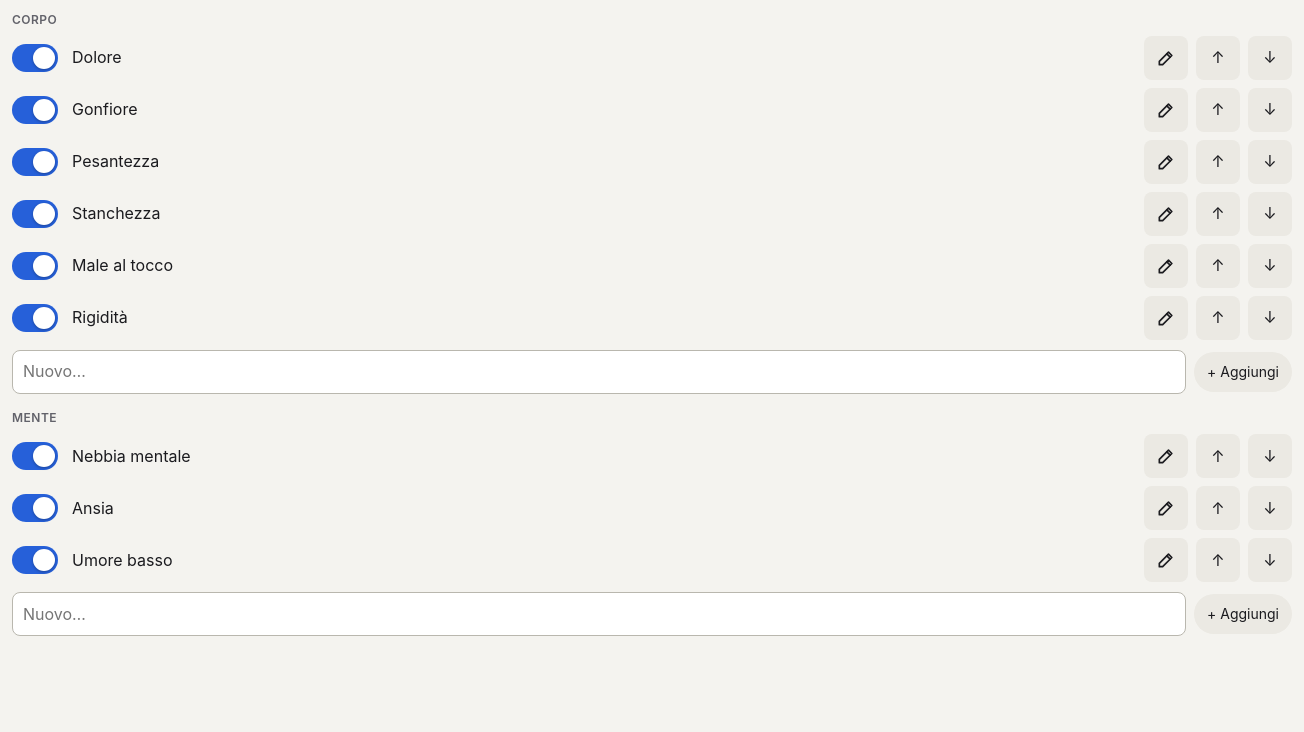
Test: Vocabulary editor: symptoms › leaves a name tapped and left unchanged as it was: a seed name keeps following the language
Click the button "Gonfiore": (105,109) top-left (66, 97), bottom-right (1136, 123)
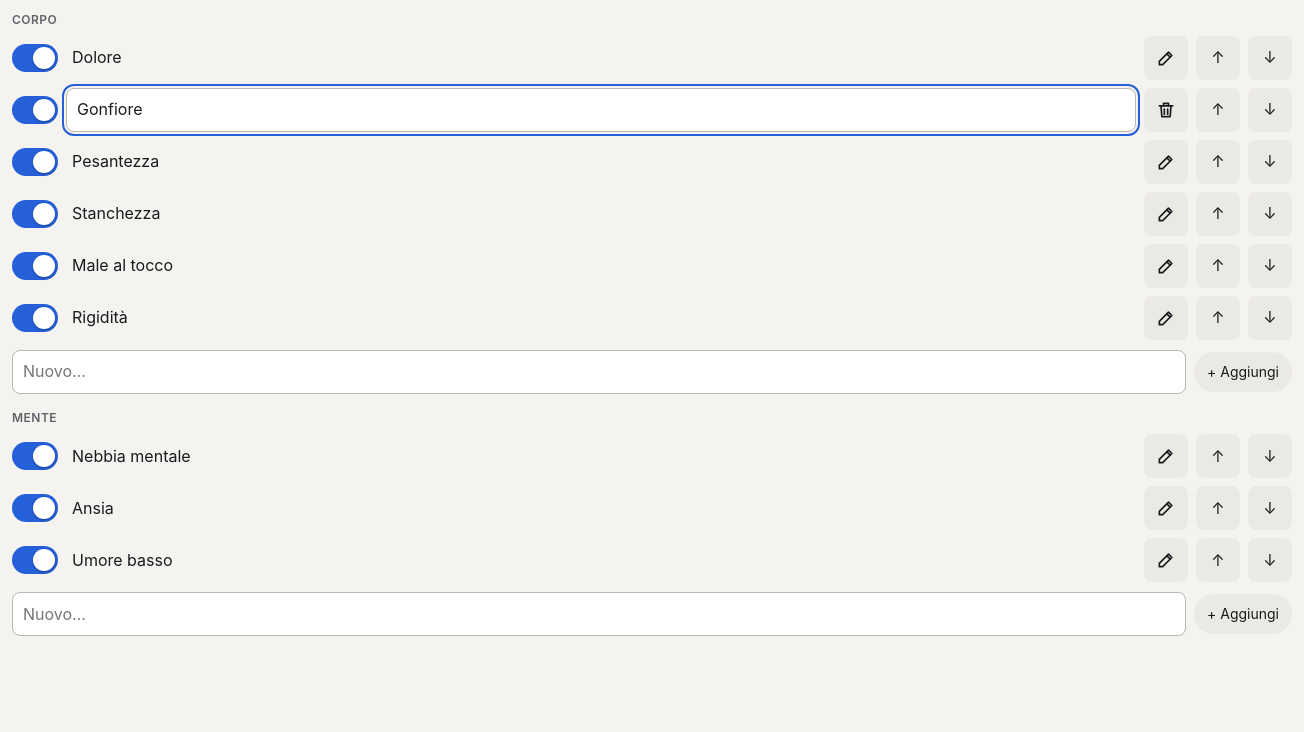
Replace the text in the field showing "Gonfiore" with " Gonfiore ": (601,110) top-left (66, 88), bottom-right (1136, 132)
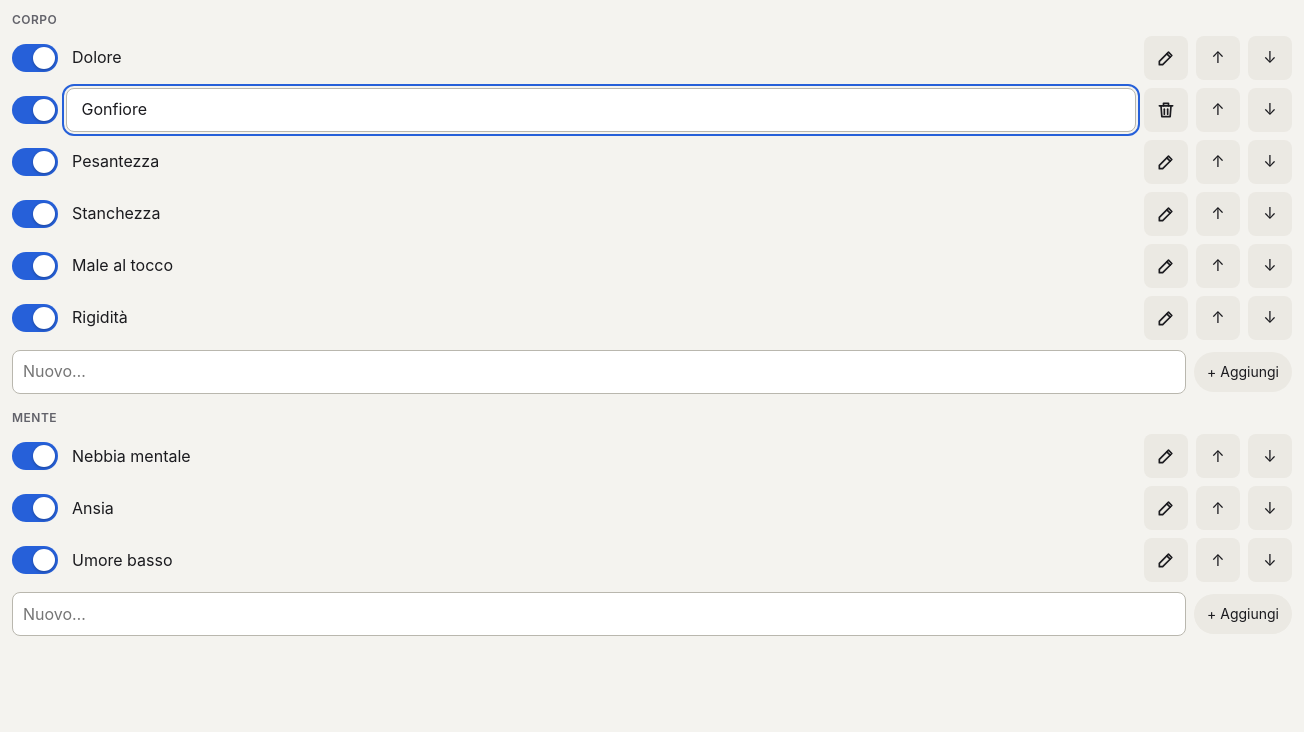
Leave the field showing "Gonfiore", box top-left (66, 88), bottom-right (1136, 132)
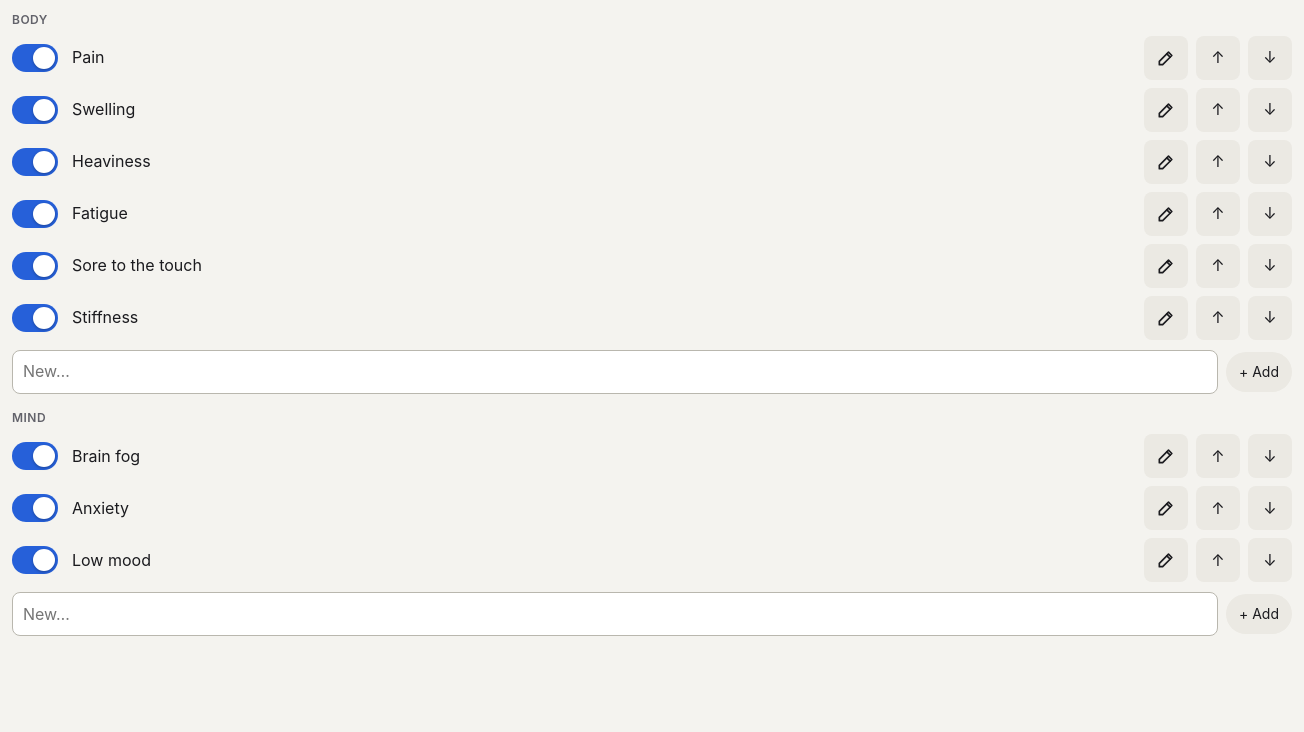
Expected: the button with class "name" reads "Swelling", top-left (66, 97), bottom-right (1136, 123)
